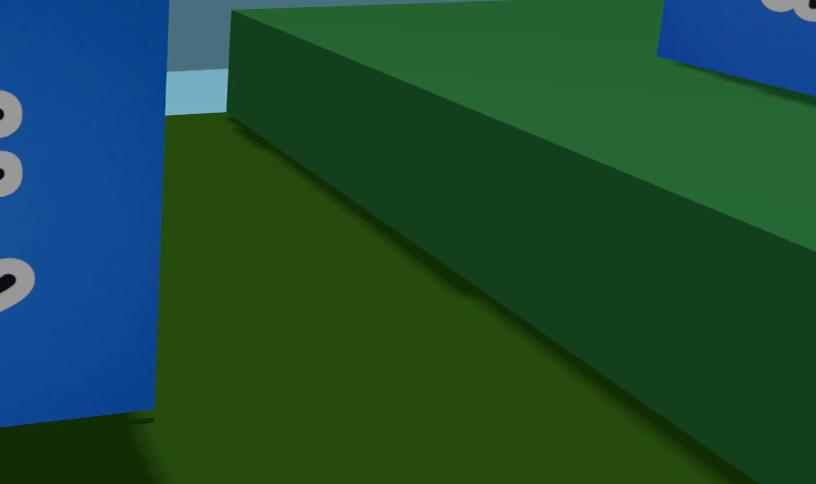KFS_REAL: (0, 0, 167, 426), (657, 0, 815, 95), (0, 91, 21, 196), (0, 259, 32, 312), (762, 0, 815, 22)
